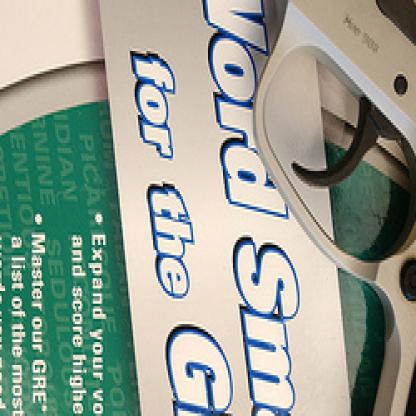gun: (149, 0, 415, 414)
